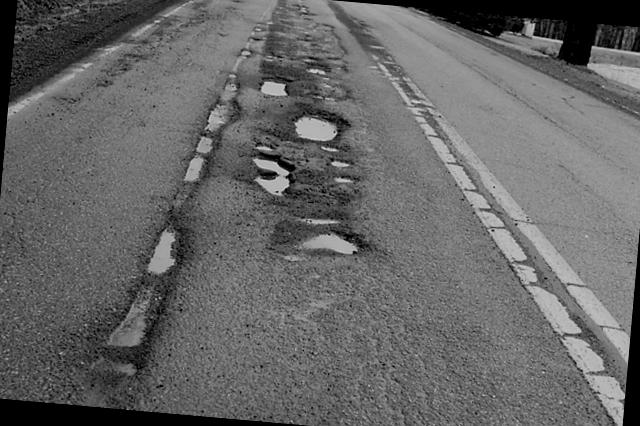Pothole: (263, 209, 374, 269), (243, 140, 298, 207), (295, 111, 349, 156), (322, 153, 367, 193), (246, 73, 292, 103), (303, 55, 332, 79), (236, 47, 255, 59)
